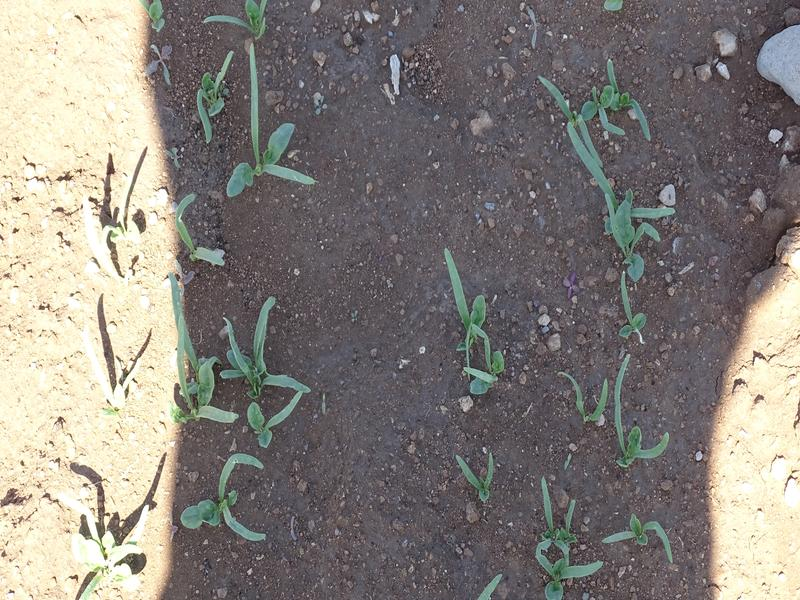Espinaca: (542, 64, 671, 288), (162, 273, 316, 449), (185, 11, 327, 189), (565, 284, 676, 462), (441, 247, 504, 393), (184, 455, 276, 542), (64, 492, 150, 582), (531, 480, 592, 599), (74, 320, 148, 411), (176, 199, 247, 277), (76, 197, 143, 277), (456, 450, 512, 501), (612, 514, 667, 552)
